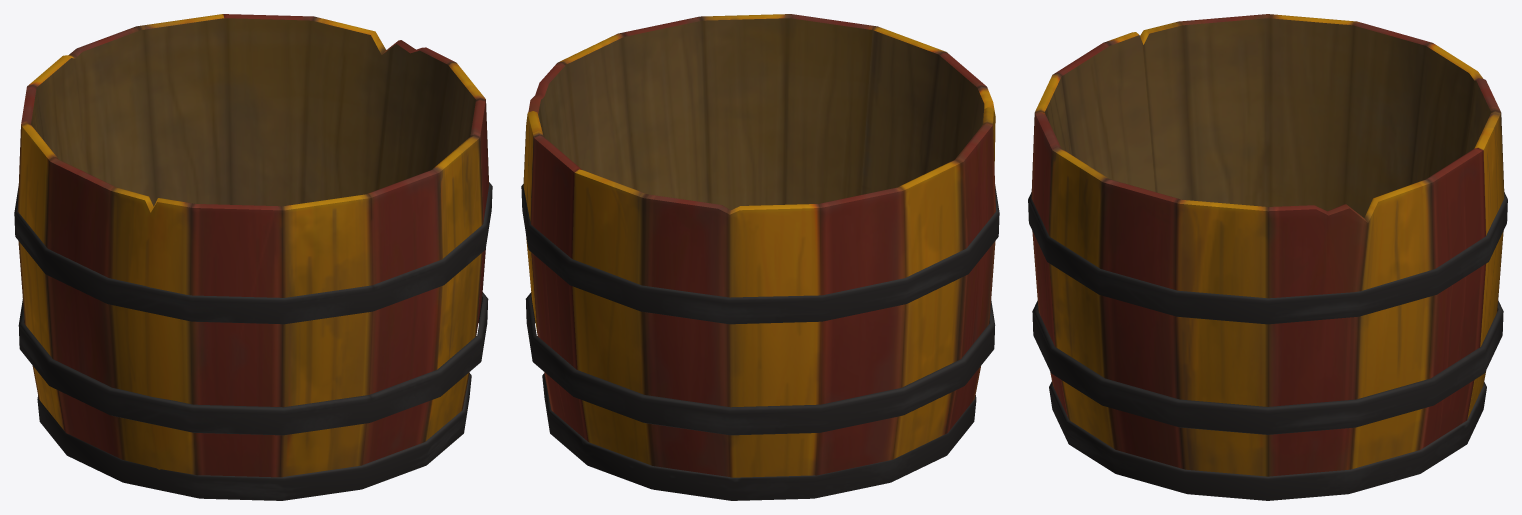
File: HalfBarrel_Yellow.fbx
3 views of the same model, side by side, from view 1: azimuth 30°, elevation 25°; view 2: azimuth 150°, elevation 25°; view 3: azimuth 270°, elevation 25° (orthographic).
Parts seen in each view (by area): view 1: Barrel8, BarrelRing22, BarrelRing24, BarrelRing23; view 2: Barrel8, BarrelRing22, BarrelRing24, BarrelRing23; view 3: Barrel8, BarrelRing22, BarrelRing24, BarrelRing23.
Part boxes in pixels (<box>): Barrel8: <box>17,14,489,477</box>; BarrelRing22: <box>18,292,488,435</box>; BarrelRing24: <box>14,182,492,324</box>; BarrelRing23: <box>37,373,471,500</box>; Barrel8: <box>523,14,995,477</box>; BarrelRing22: <box>525,292,995,435</box>; BarrelRing24: <box>521,184,999,324</box>; BarrelRing23: <box>542,373,976,500</box>; Barrel8: <box>1031,14,1504,476</box>; BarrelRing22: <box>1032,301,1503,434</box>; BarrelRing24: <box>1028,192,1507,324</box>; BarrelRing23: <box>1049,381,1486,500</box>.
Bounding box in the file's own units: 17.44 × 12.08 × 17.44.
